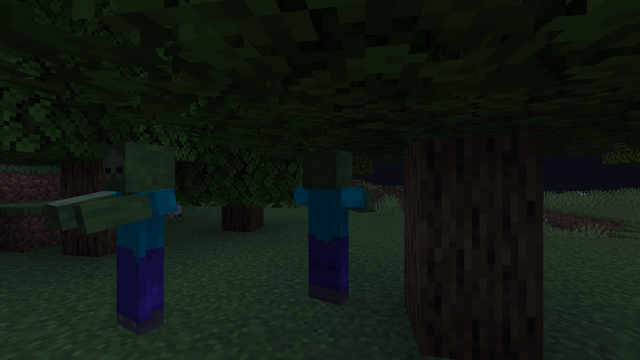zombies: (89, 146, 181, 342), (301, 153, 350, 310)
